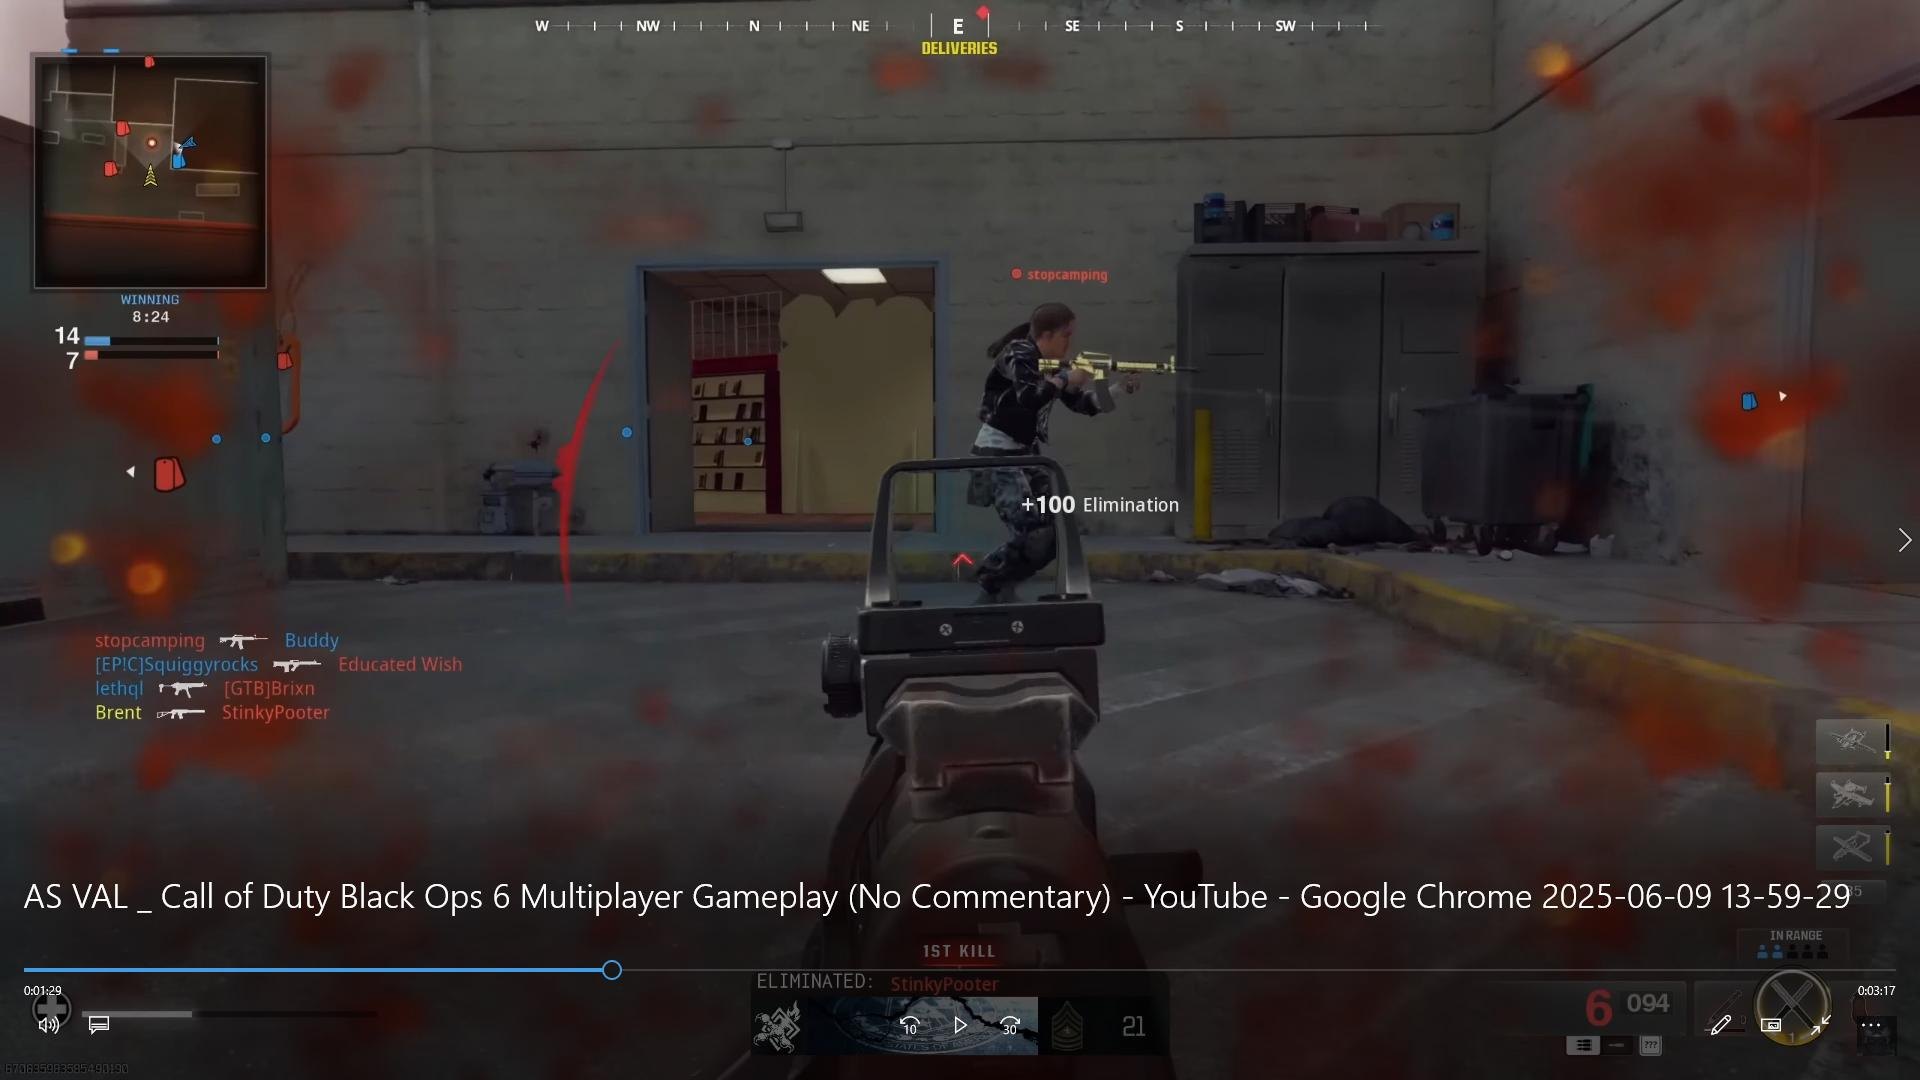Enemy: (976, 291, 1112, 456)
